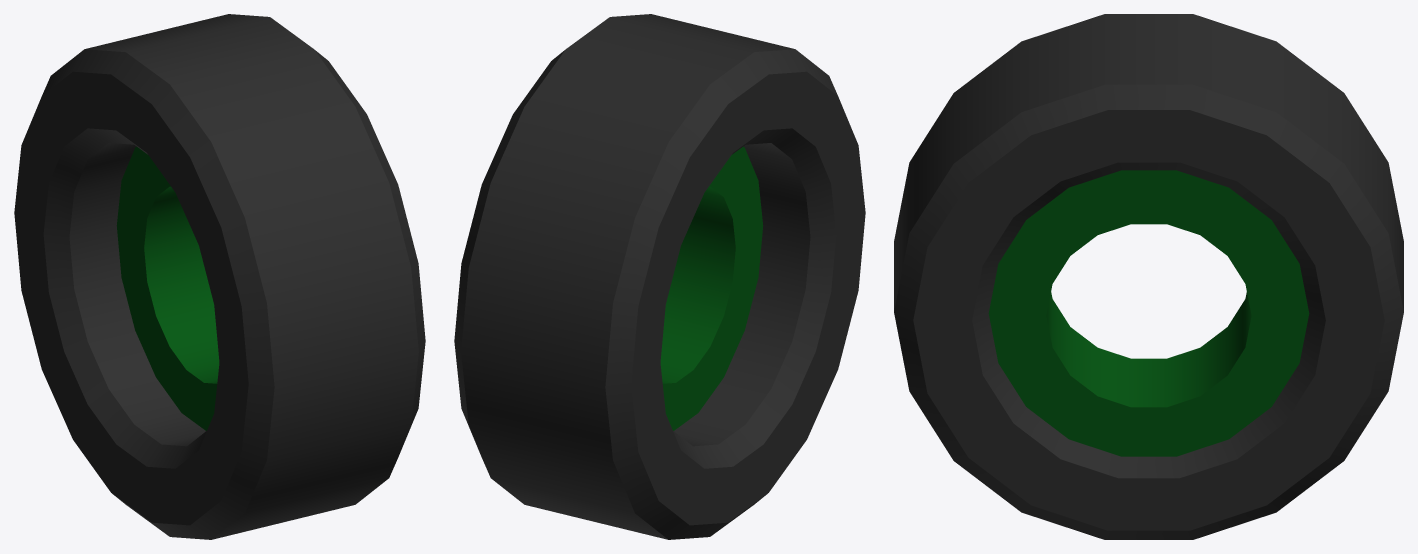
The model's file is KartWheel.fbx.
3 views of the same model, side by side, from view 1: azimuth 30°, elevation 25°; view 2: azimuth 150°, elevation 25°; view 3: azimuth 270°, elevation 25° (orthographic).
Visible parts, largest first — view 1: Wheel_BackLeft; view 2: Wheel_BackLeft; view 3: Wheel_BackLeft.
Boxes of the visible parts, x1=… form: Wheel_BackLeft: x1=14, y1=14, x2=425, y2=539; Wheel_BackLeft: x1=454, y1=14, x2=865, y2=539; Wheel_BackLeft: x1=894, y1=14, x2=1403, y2=539.
Bounding box in the file's own units: 0.3238 × 0.7916 × 0.8038.
